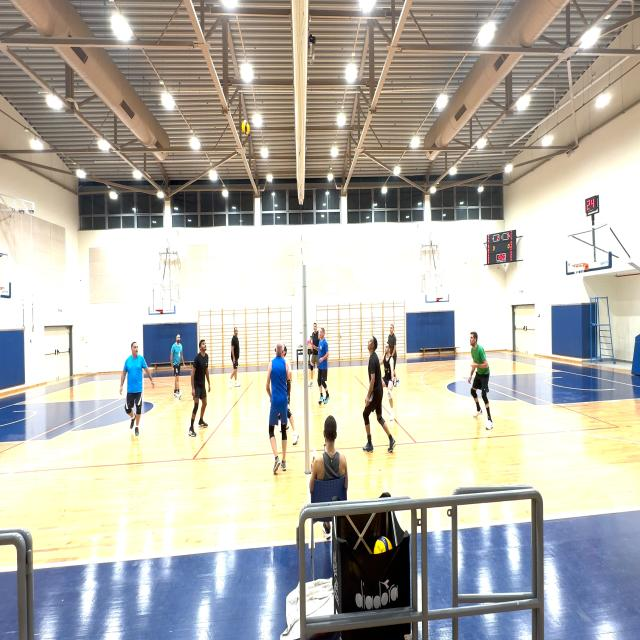volleyball: (373, 536, 392, 555), (241, 120, 250, 136)
